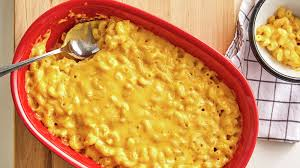macncheese: (40, 65, 224, 148)
